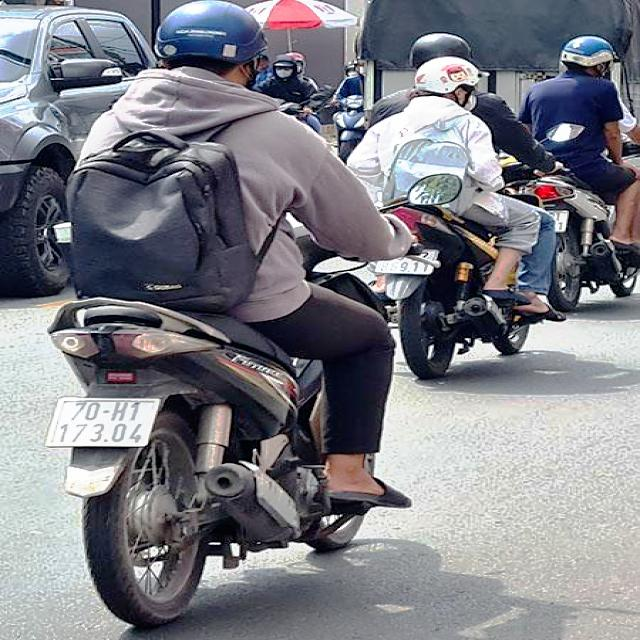license_plate: (53, 399, 164, 449)
